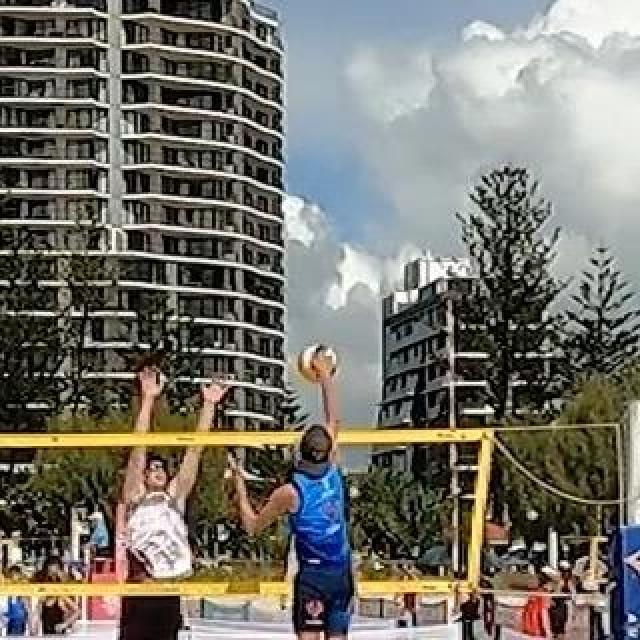volleyball: (298, 345, 338, 385)
